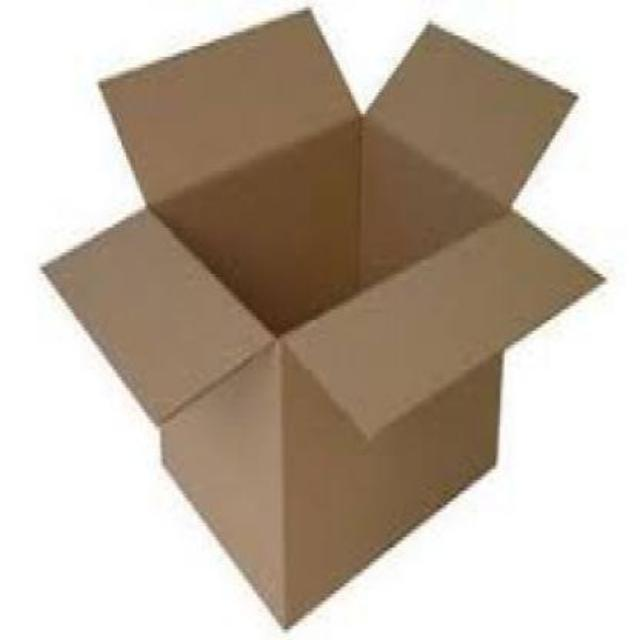cardboard_box: (44, 8, 606, 630)
